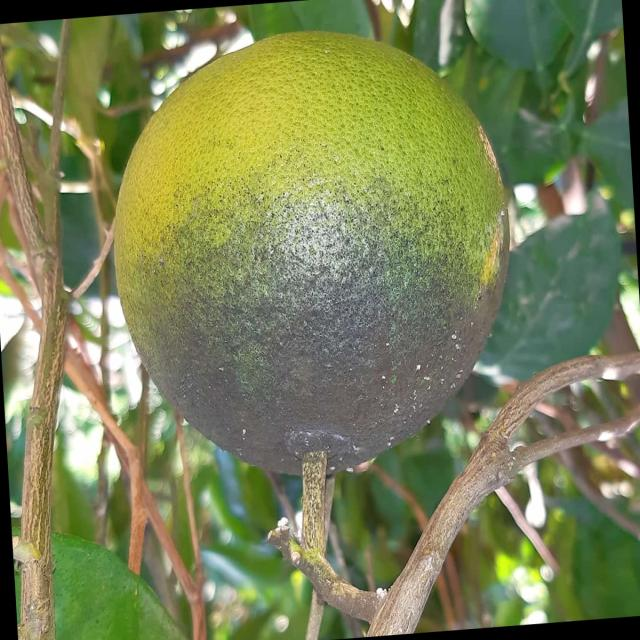Sooty Mold: (111, 29, 512, 478)
